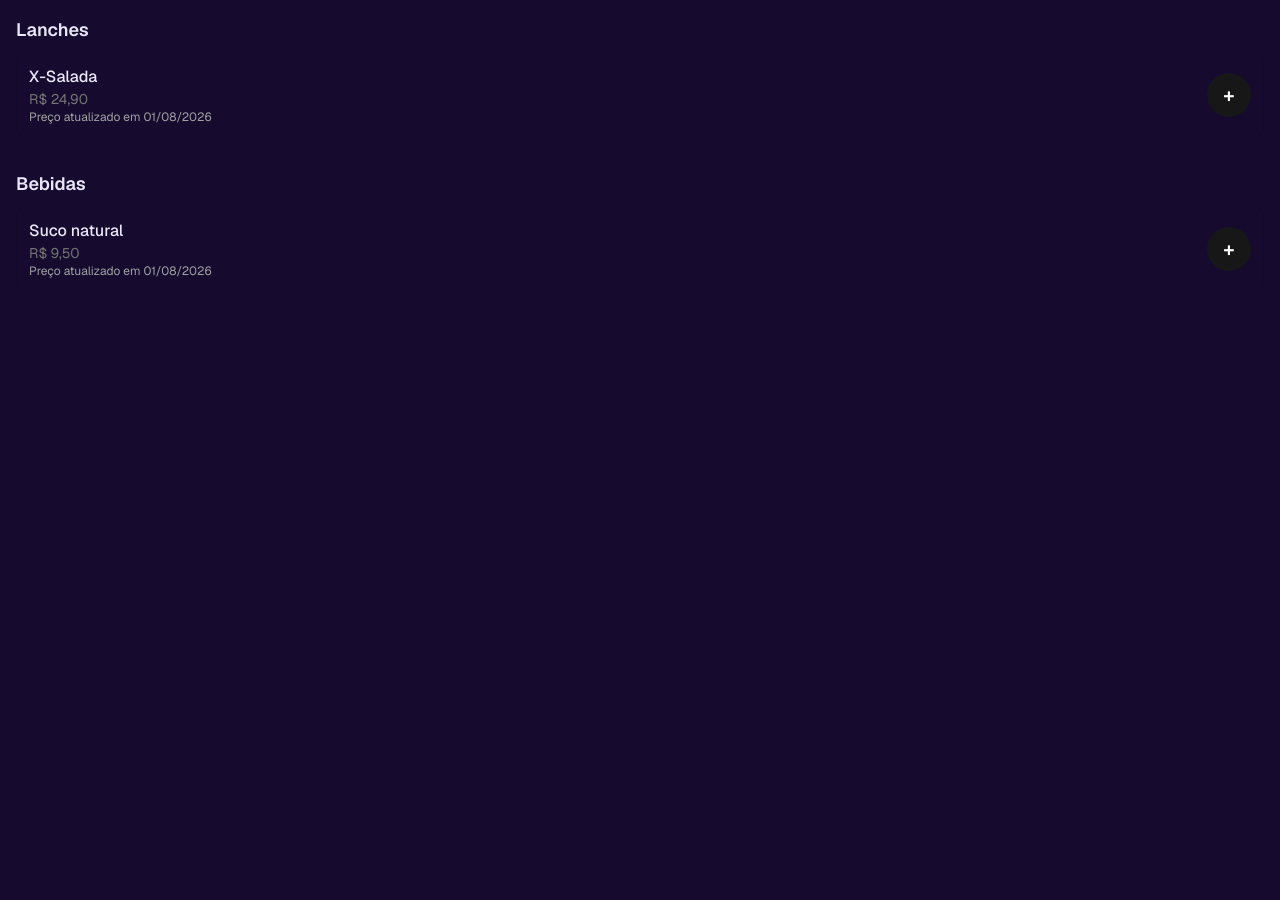
Test: CardapioClient › o botão vira contador inline (−/+) e a barra de resumo atualiza ao vivo
The image size is (1280, 900).
Click the button named "Adicionar X-Salada": (1229, 95) [1207, 73, 1251, 117]
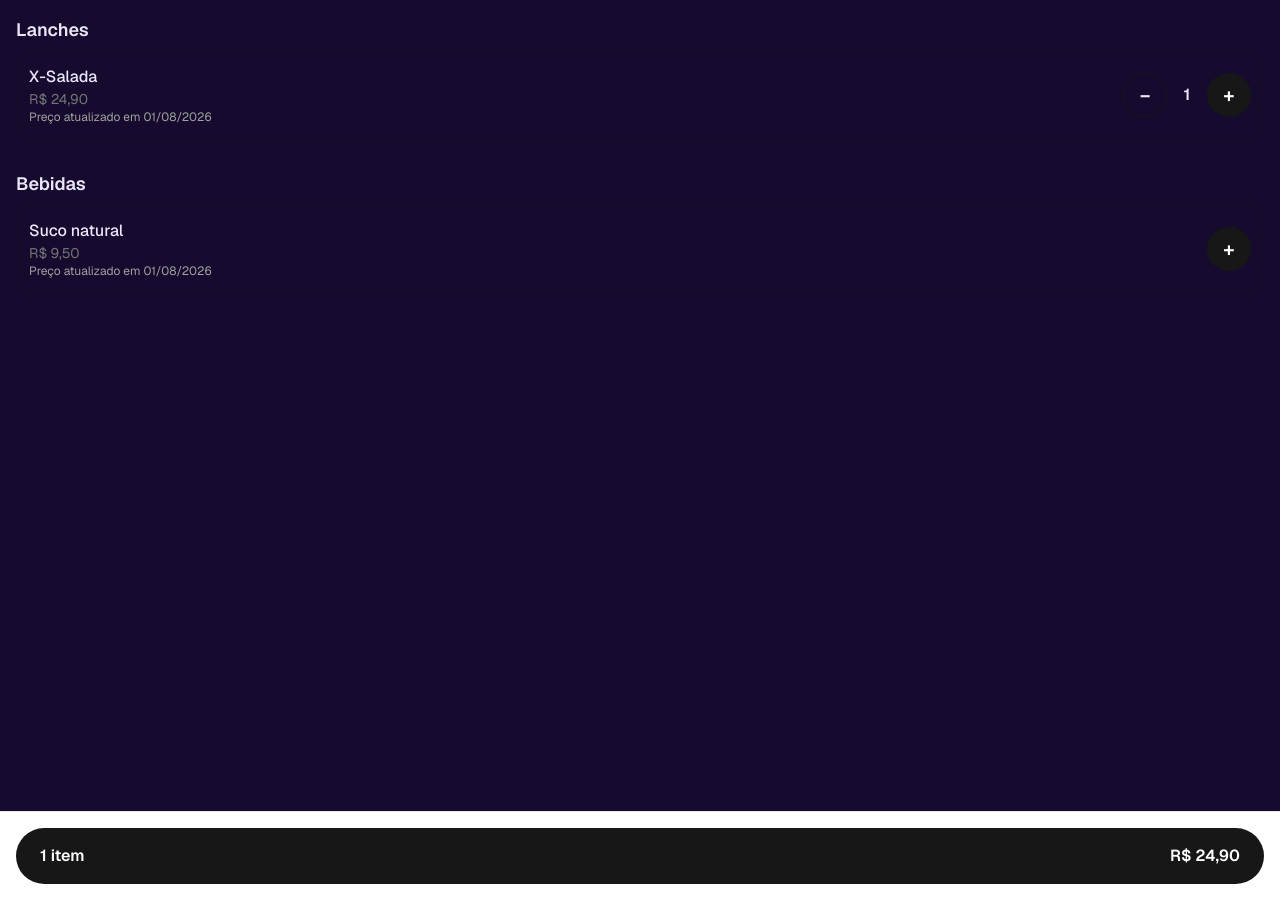
Click the button named "Adicionar X-Salada": (1229, 95) [1207, 73, 1251, 117]
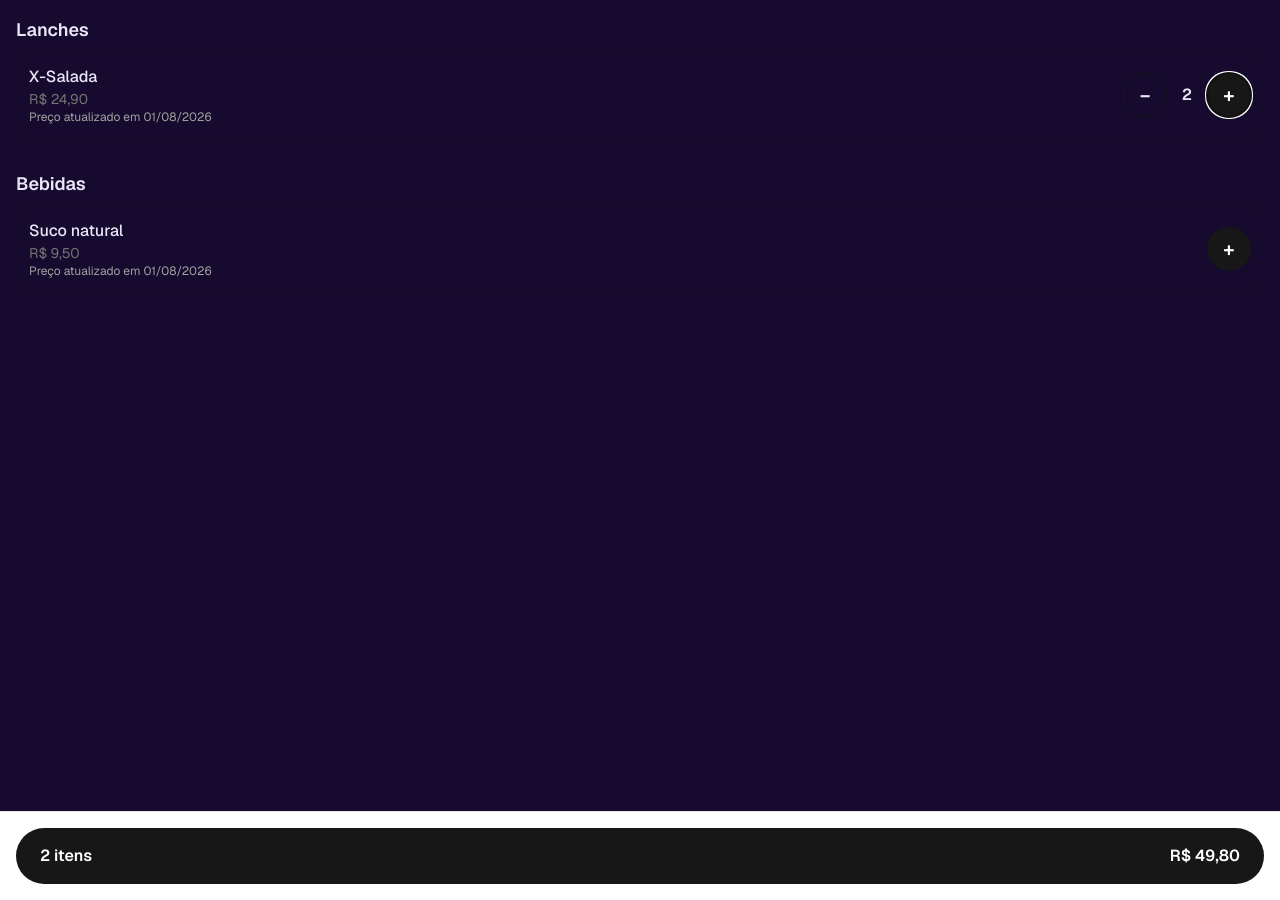
Expected: the text "2" is shown, [1182, 84, 1192, 105]
Expected: the text "2 itens" is shown, [40, 844, 92, 868]
Expected: the text "R$ 49,80" is shown, [1170, 844, 1240, 868]
